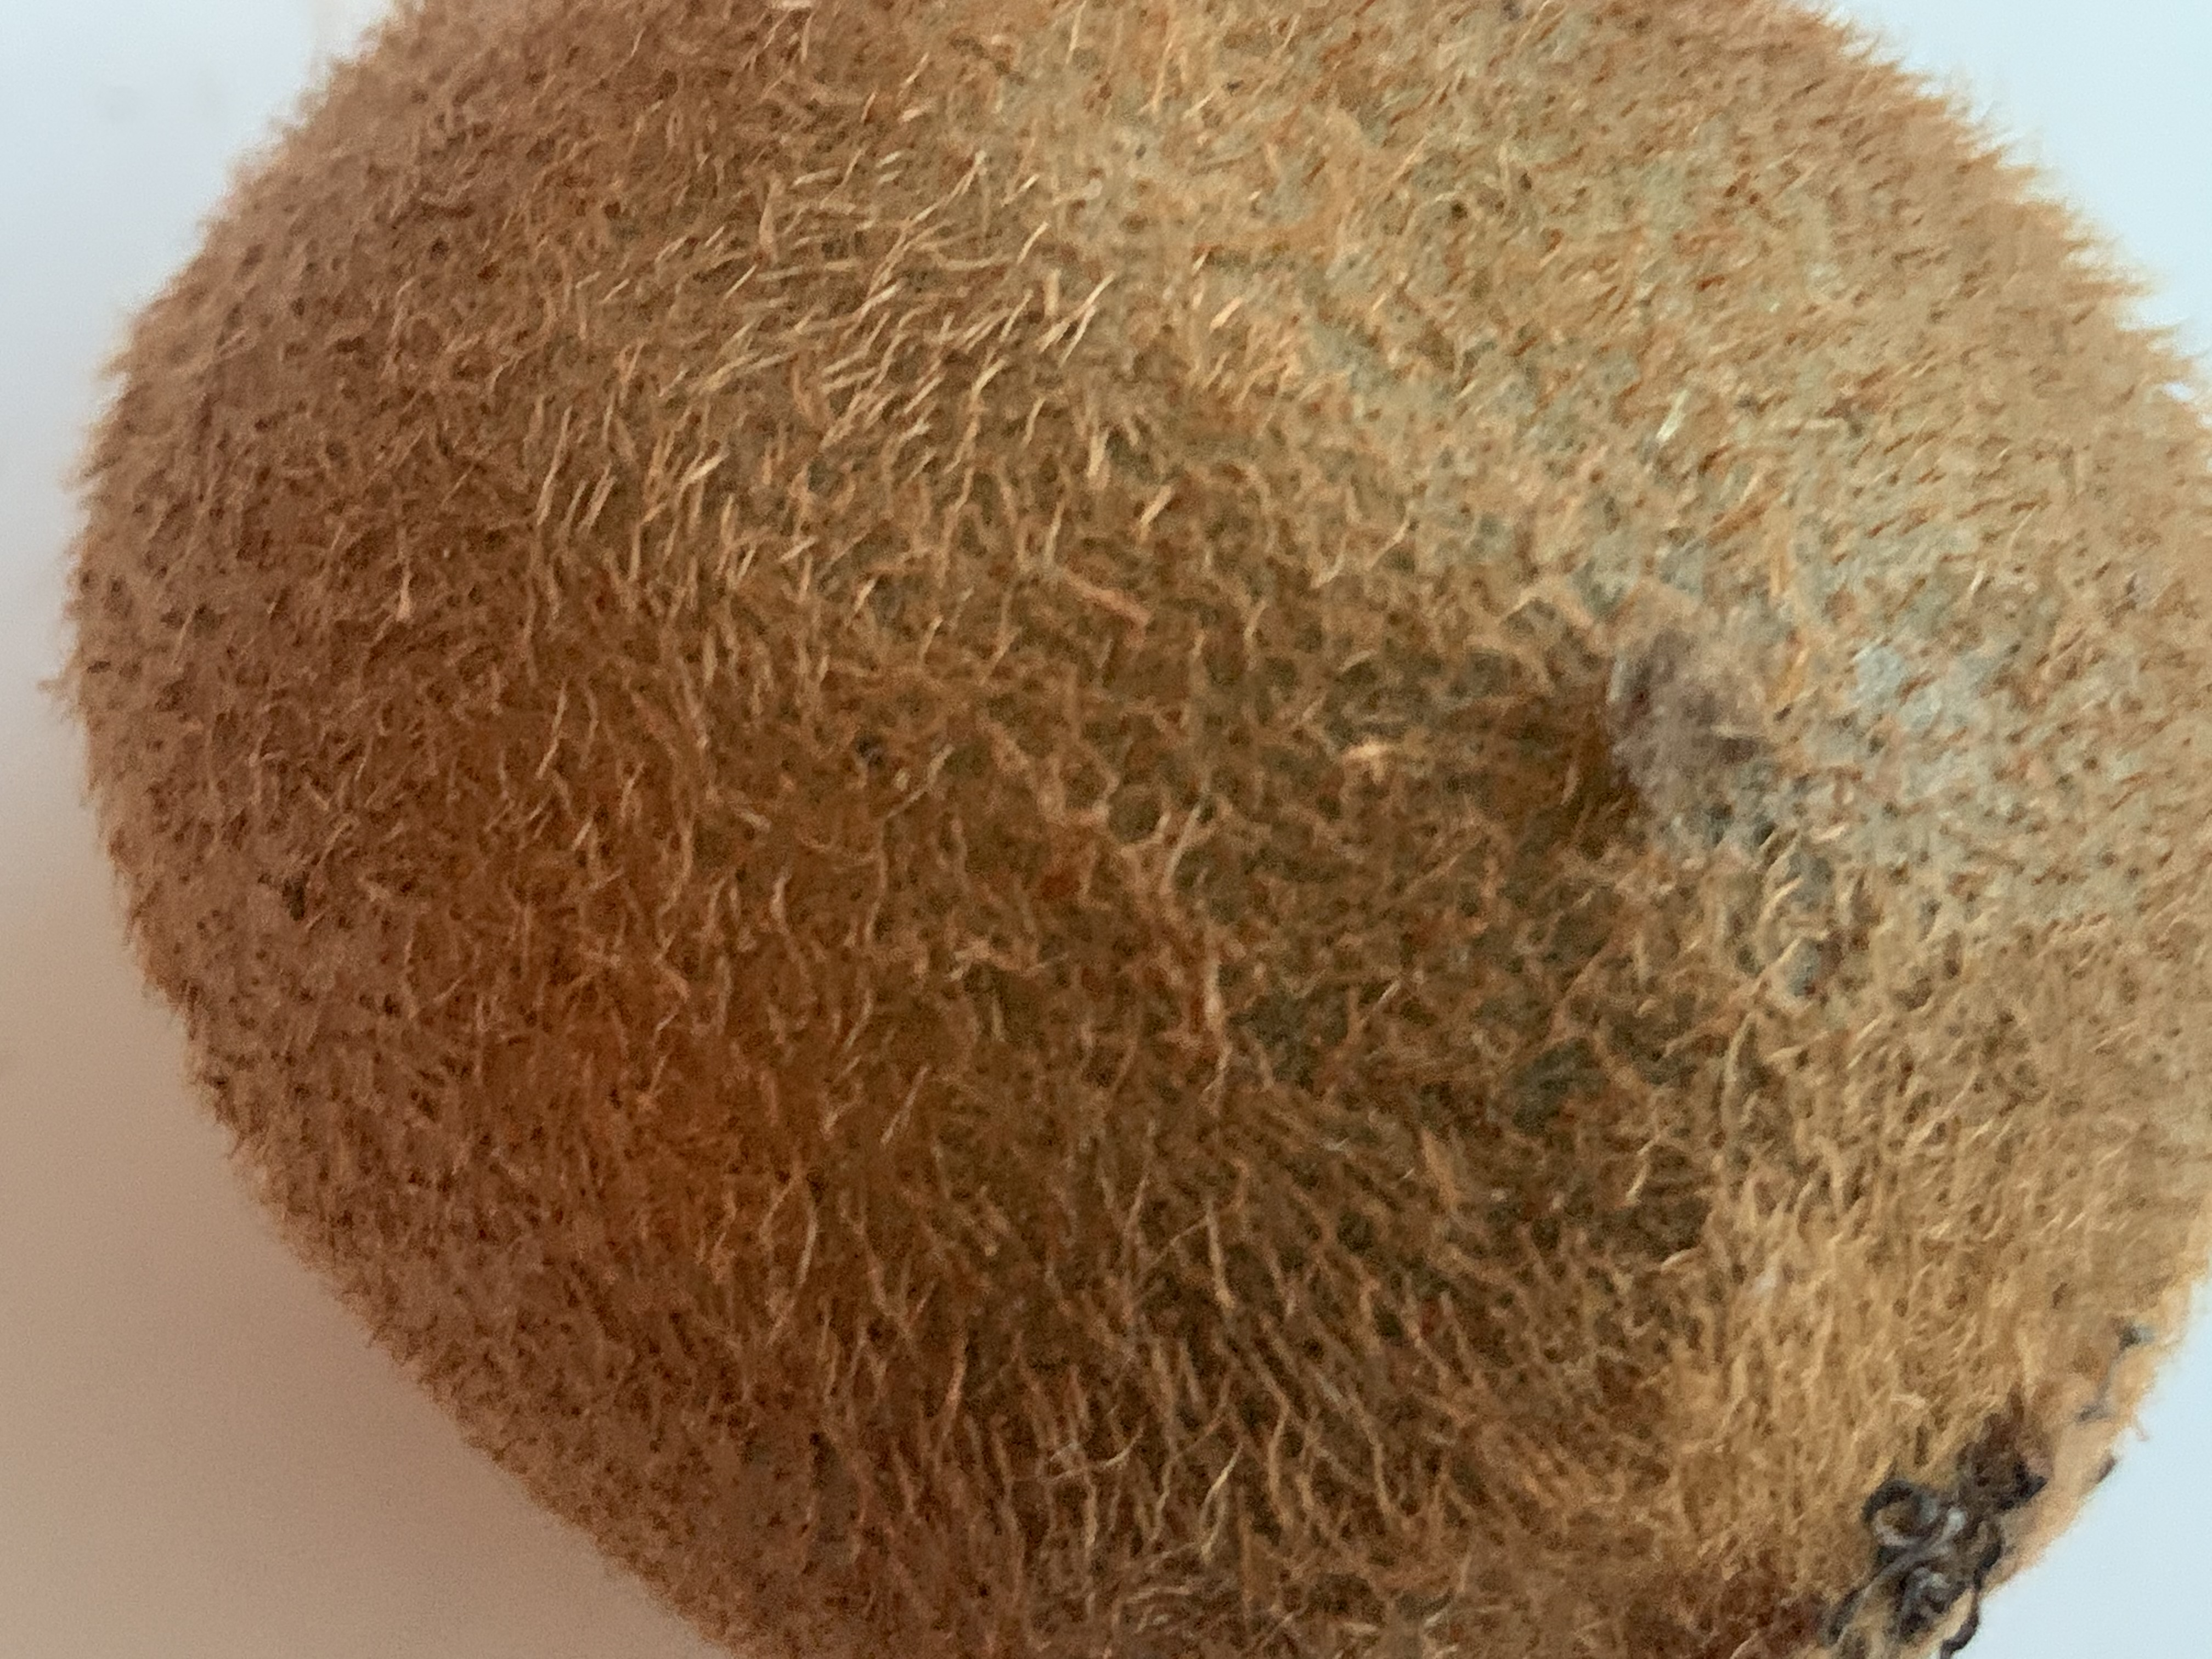kiwi: (16, 3, 2209, 1659)
